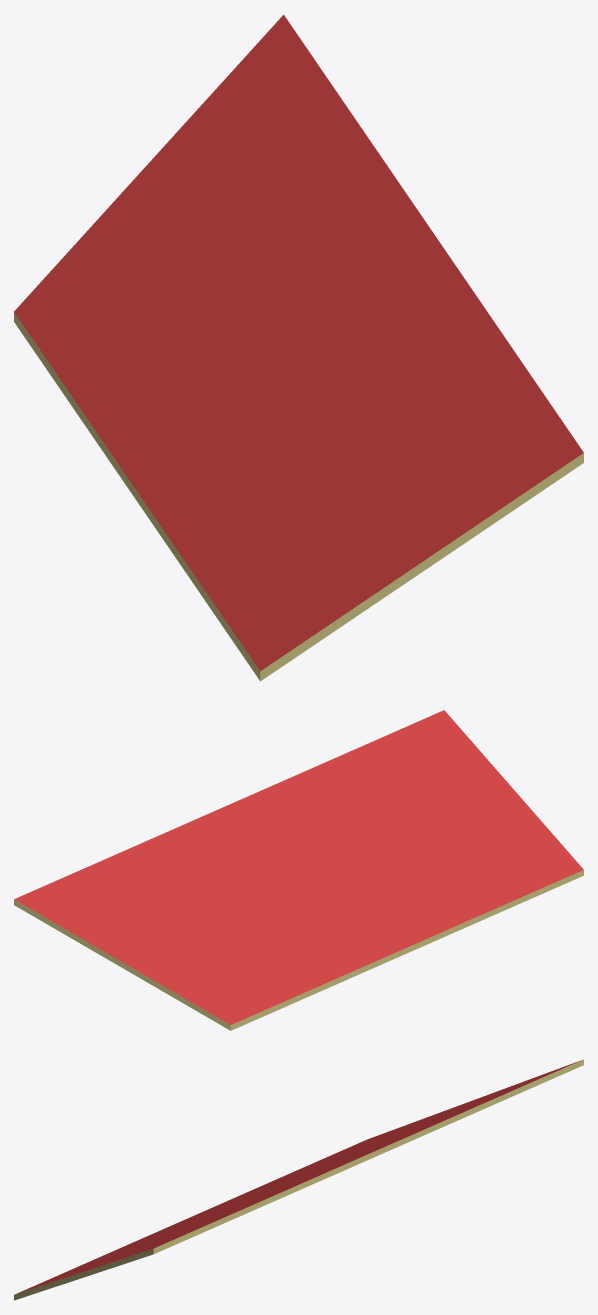
The picture shows the model from 3 angles, top to bottom: view 1: azimuth 30°, elevation 25°; view 2: azimuth 150°, elevation 25°; view 3: azimuth 330°, elevation 25°; orthographic projection. The views are drawn at different scales.
Size of the model in its own units: 5.25 by 9.39 by 1.87.
